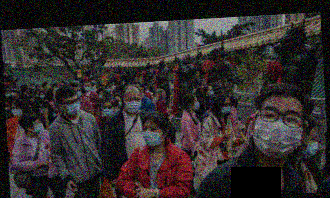mask_weared_incorrect: (144, 88, 149, 93)
with_mask: (252, 103, 304, 159), (141, 122, 163, 147), (298, 134, 319, 158), (123, 94, 142, 113), (62, 96, 80, 114), (219, 100, 232, 114), (10, 104, 23, 117), (102, 102, 114, 116), (31, 119, 42, 132), (191, 97, 200, 110), (114, 96, 122, 107), (74, 87, 82, 97), (206, 86, 214, 95), (83, 82, 90, 90), (38, 92, 45, 99), (97, 91, 104, 98), (4, 90, 11, 96), (105, 85, 110, 91)
